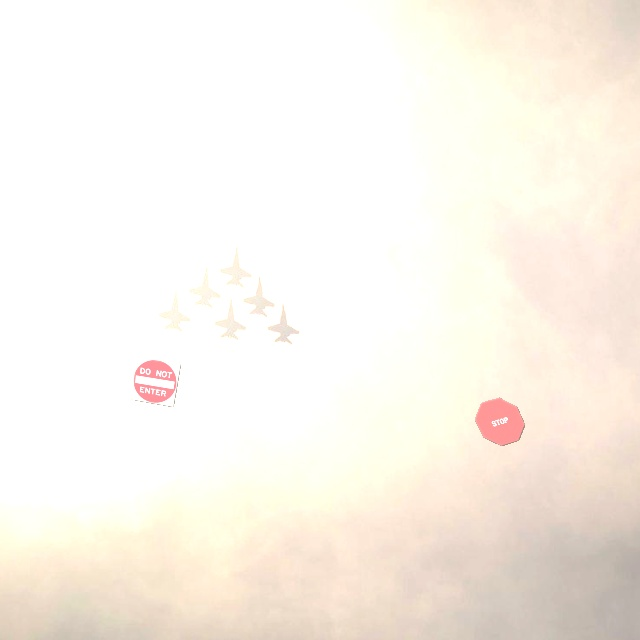DO_NOT_ENTER: (131, 356, 181, 407)
STOP: (474, 397, 525, 446)
